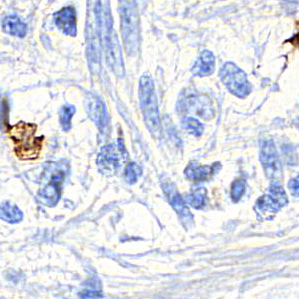Lymphocyte: (7, 120, 47, 162)
